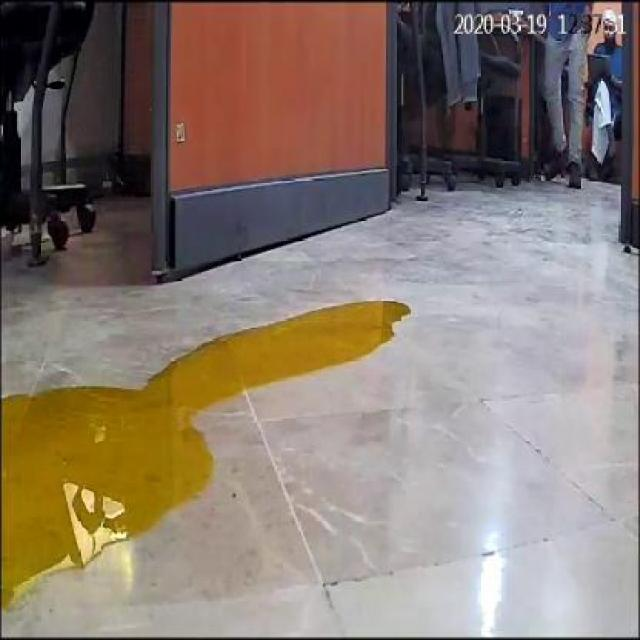spill: (2, 292, 410, 614)
